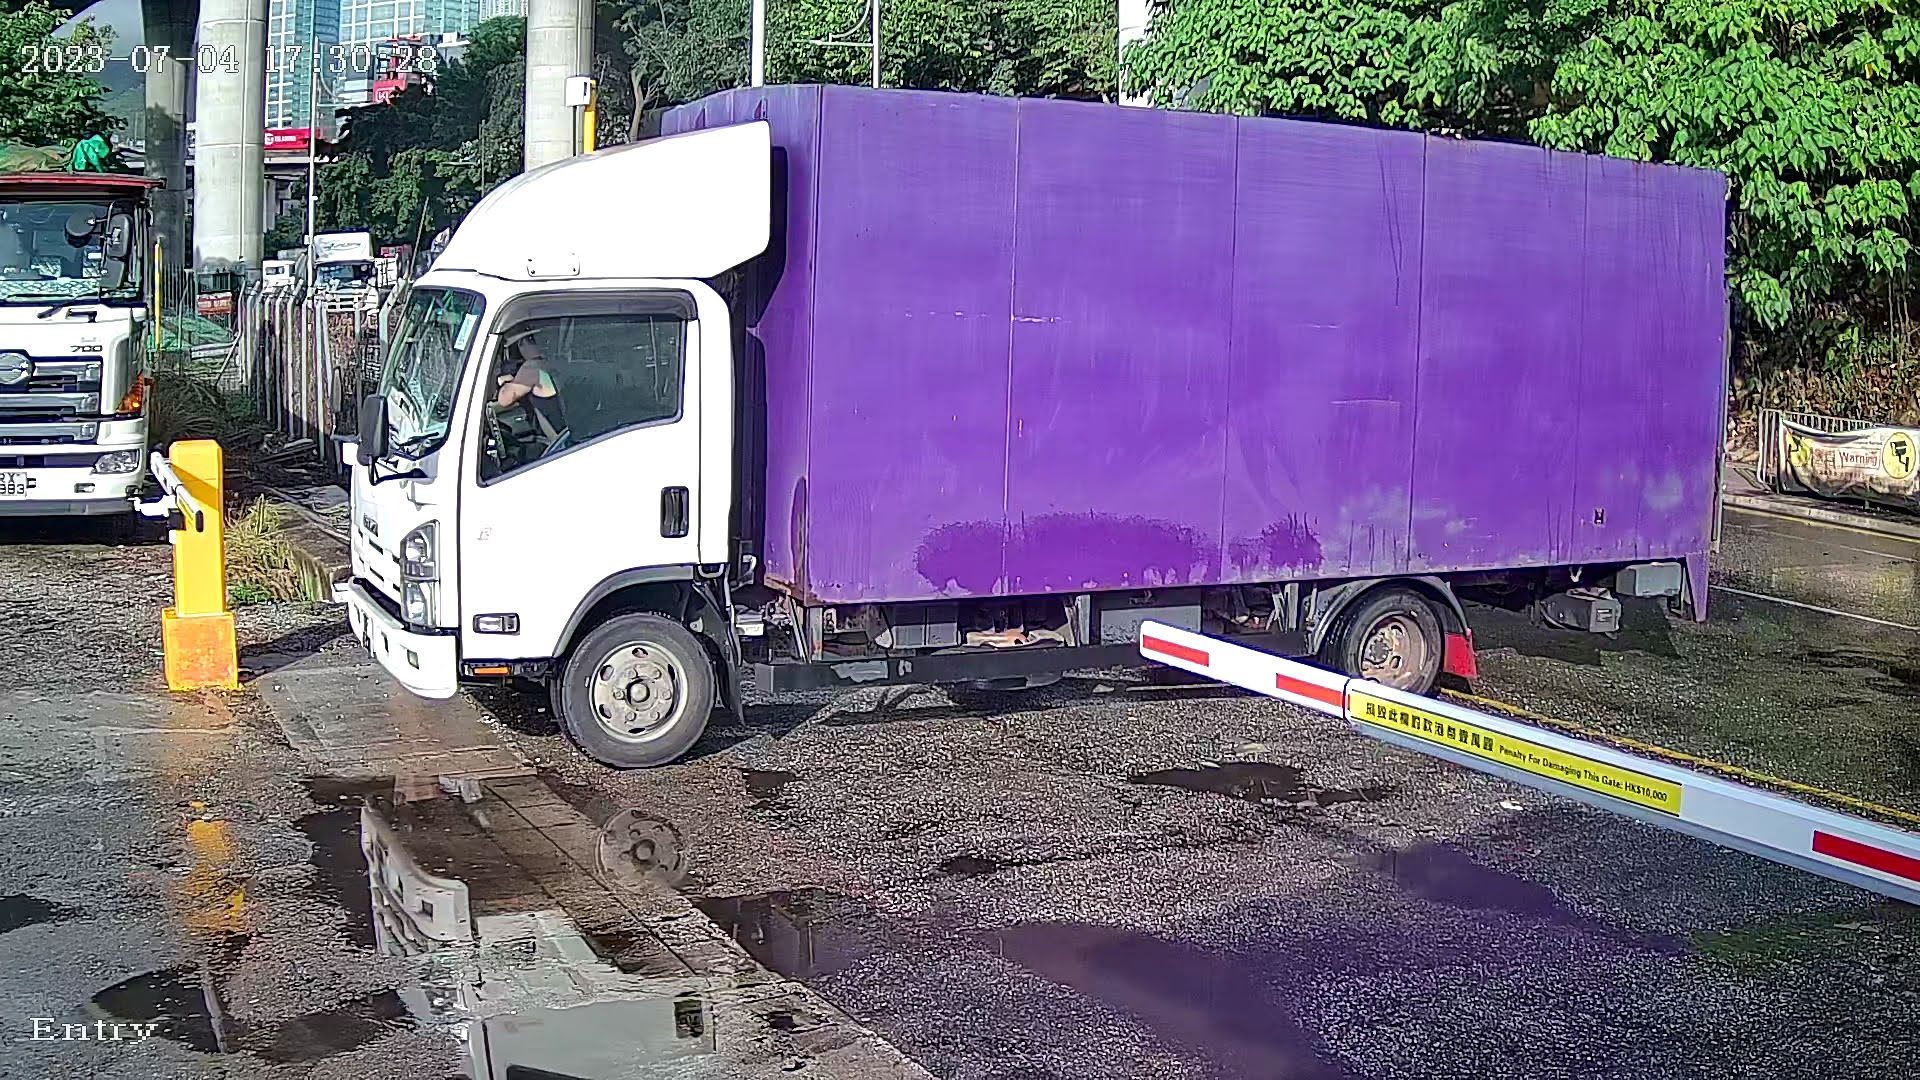truck: (309, 34, 1797, 775)
